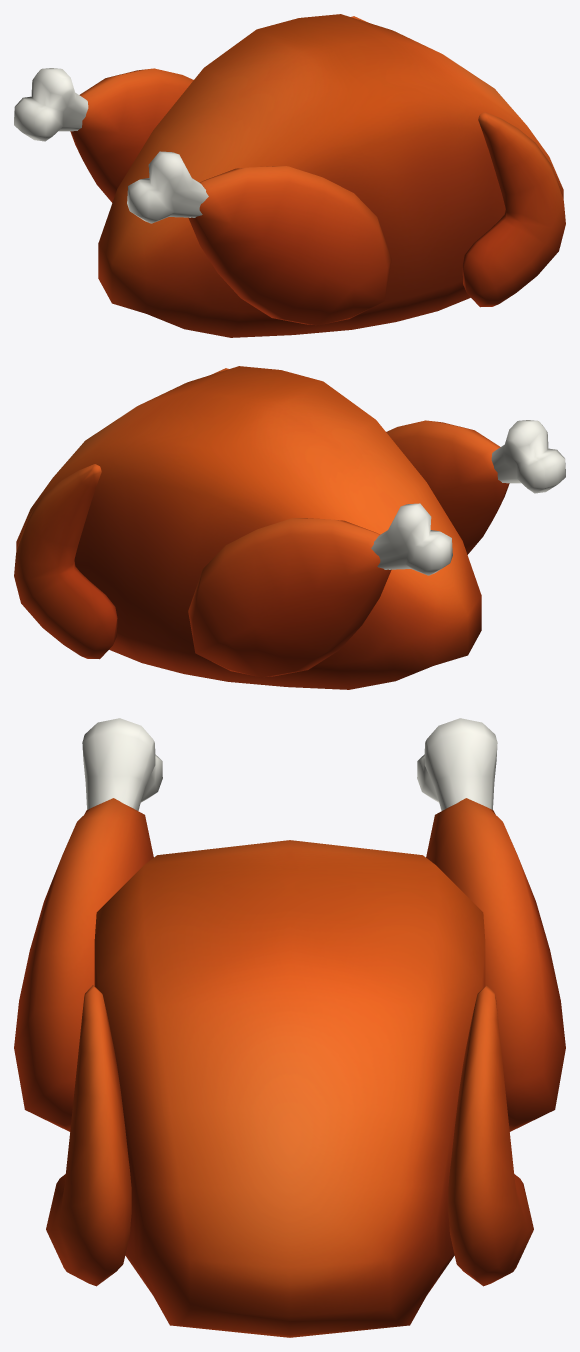
File: Thanksgiving_Turkey.fbx
3 views of the same model, one above another, from view 1: azimuth 30°, elevation 25°; view 2: azimuth 150°, elevation 25°; view 3: azimuth 270°, elevation 25° (orthographic). The views are drawn at different scales.
Parts seen in each view (by area): view 1: Thanksgiving_Turkey; view 2: Thanksgiving_Turkey; view 3: Thanksgiving_Turkey.
Part boxes in pixels (<box>): Thanksgiving_Turkey: <box>14,14,565,337</box>; Thanksgiving_Turkey: <box>14,366,565,689</box>; Thanksgiving_Turkey: <box>14,718,565,1337</box>.
Size of the model in its own units: 212 by 107 by 146.
